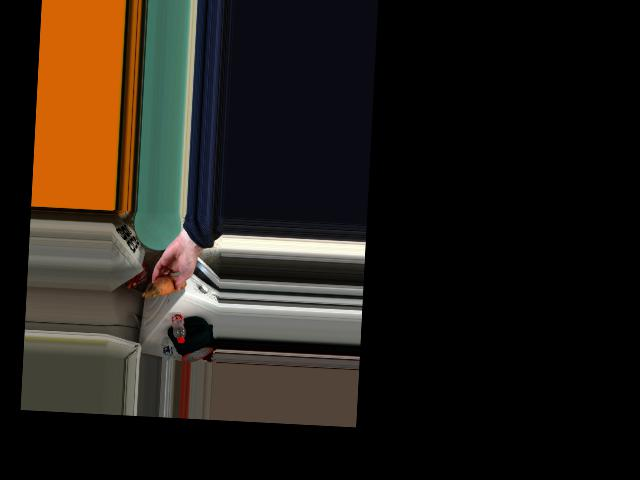sweet_potato: (154, 276, 182, 296)
